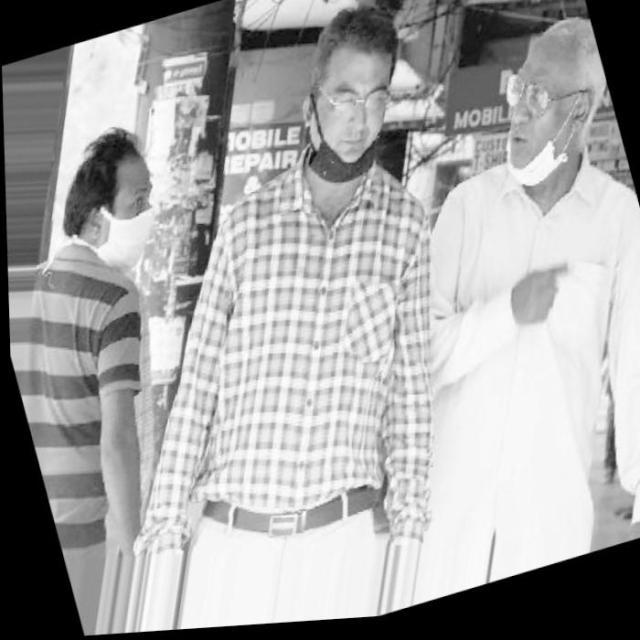hairnet: (282, 68, 387, 194), (484, 68, 574, 196)
